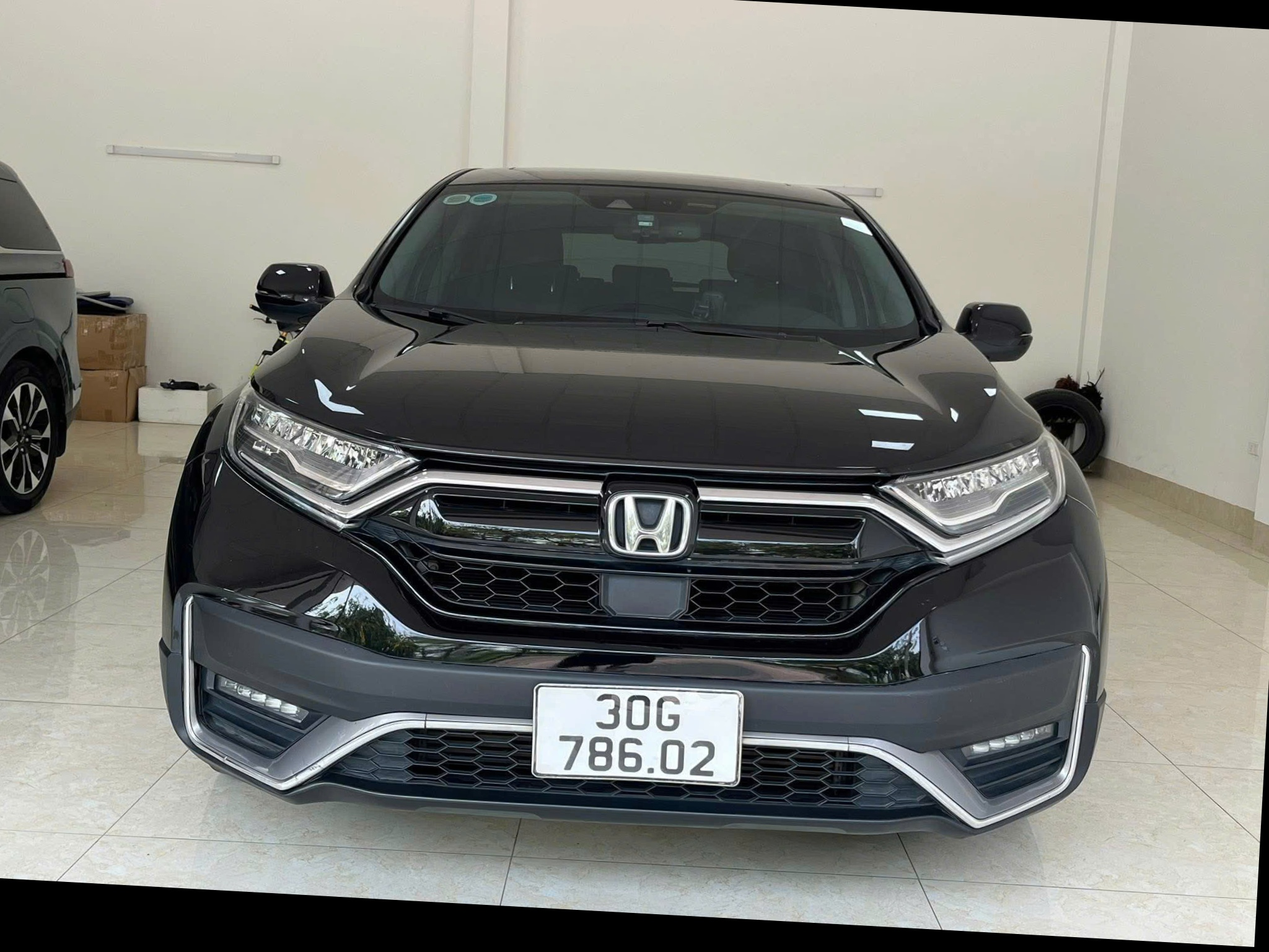Bien-so: (571, 695, 793, 818)
